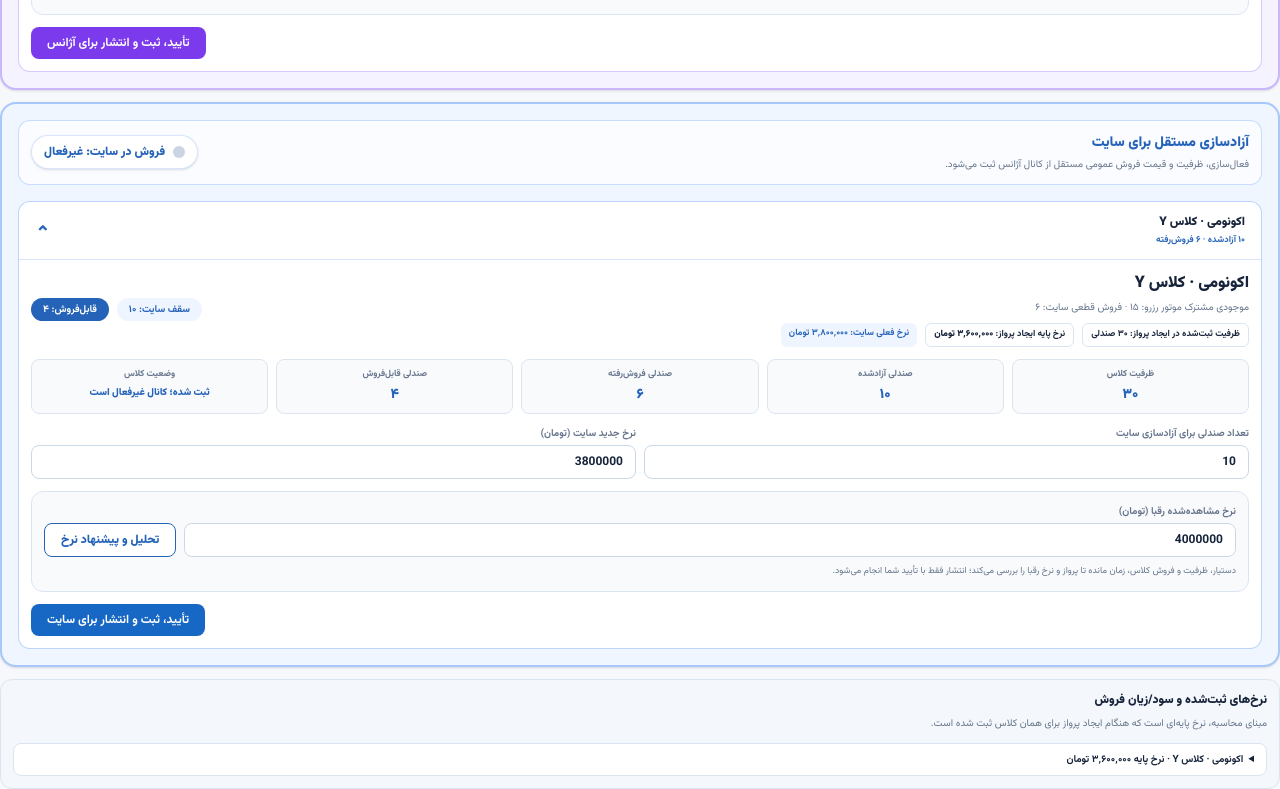
Scenario: CommercialFareClassControls › shows sold/released inventory and keeps AI advice advisory until explicit publish
The width and height of the screenshot is (1280, 789).
(page scrolled)
expect the element with test id "site-release-stats" shows "صندلی آزادشده": met, box [858, 366, 913, 380]
expect the element with test id "site-release-stats" shows "صندلی فروش‌رفته": met, box [608, 366, 672, 380]
Click the button "تحلیل و پیشنهاد نرخ" at (110, 540), box [44, 523, 176, 557]
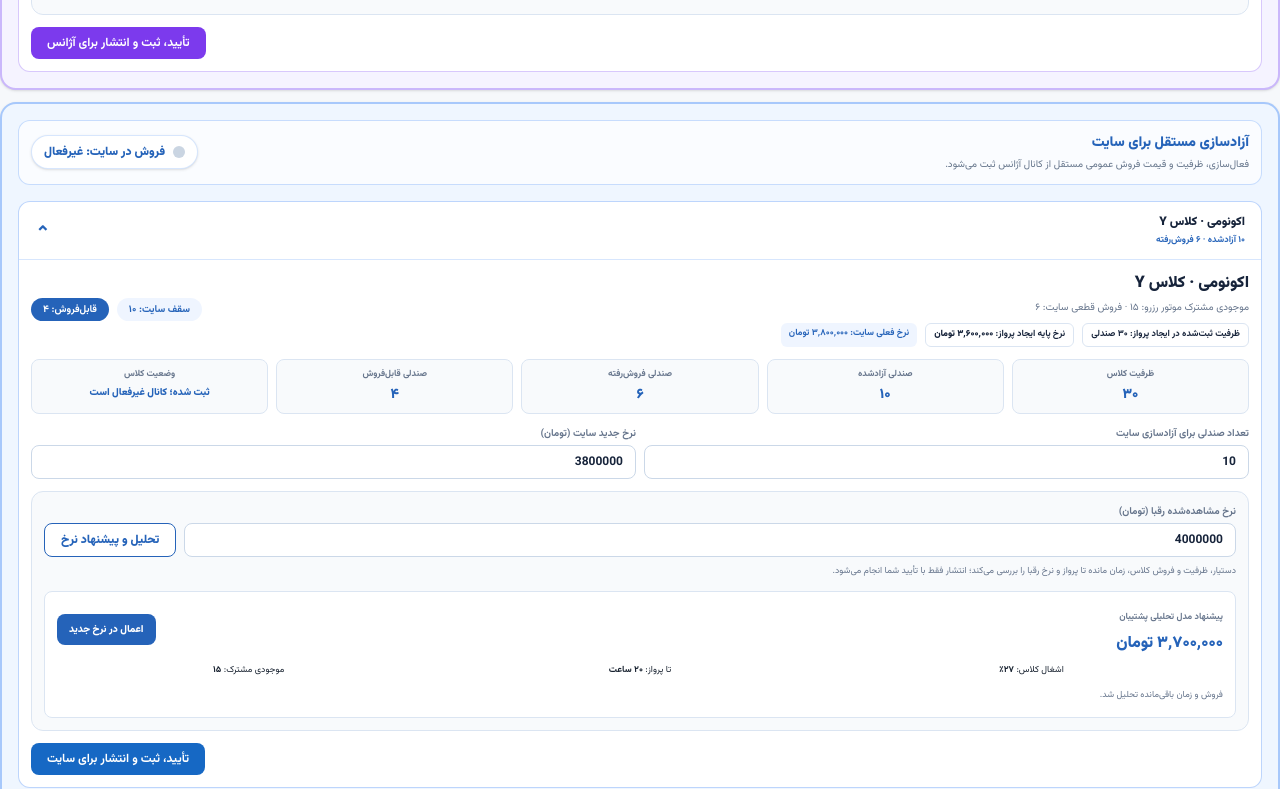
Click the button "اعمال در نرخ جدید" at (106, 630), box [57, 614, 156, 645]
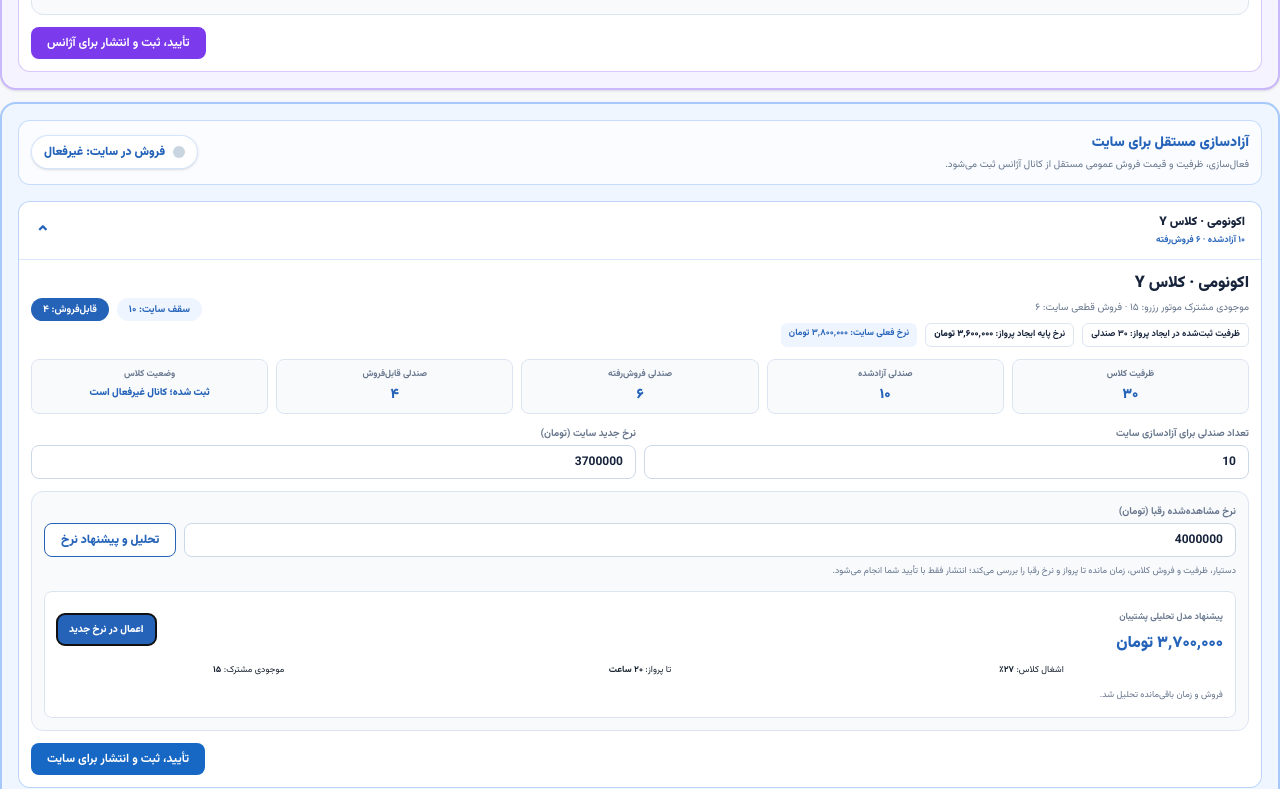
expect the field named "قیمت فروش سایت" holds "3700000": met, box [31, 445, 636, 479]
